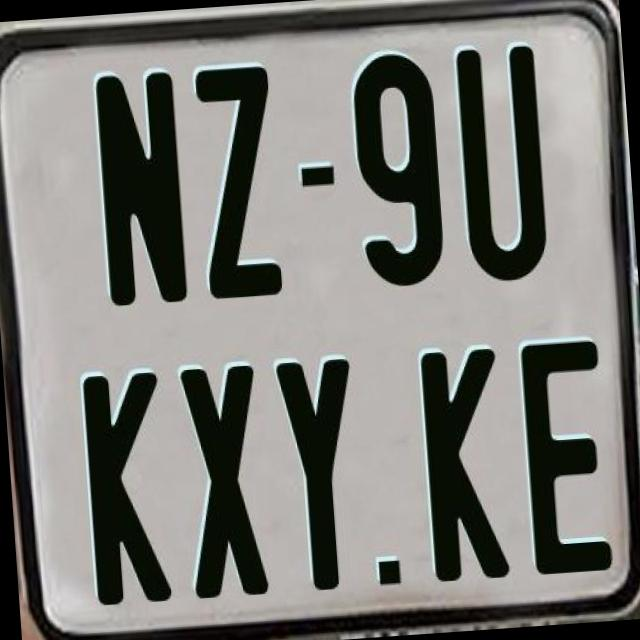9: (346, 46, 450, 286)
E: (516, 334, 610, 572)
K: (77, 368, 176, 602), (418, 346, 514, 584)
N: (93, 70, 189, 308)
U: (453, 42, 552, 286)
X: (180, 365, 270, 603)
Y: (272, 354, 362, 596)
Z: (194, 62, 289, 296)
